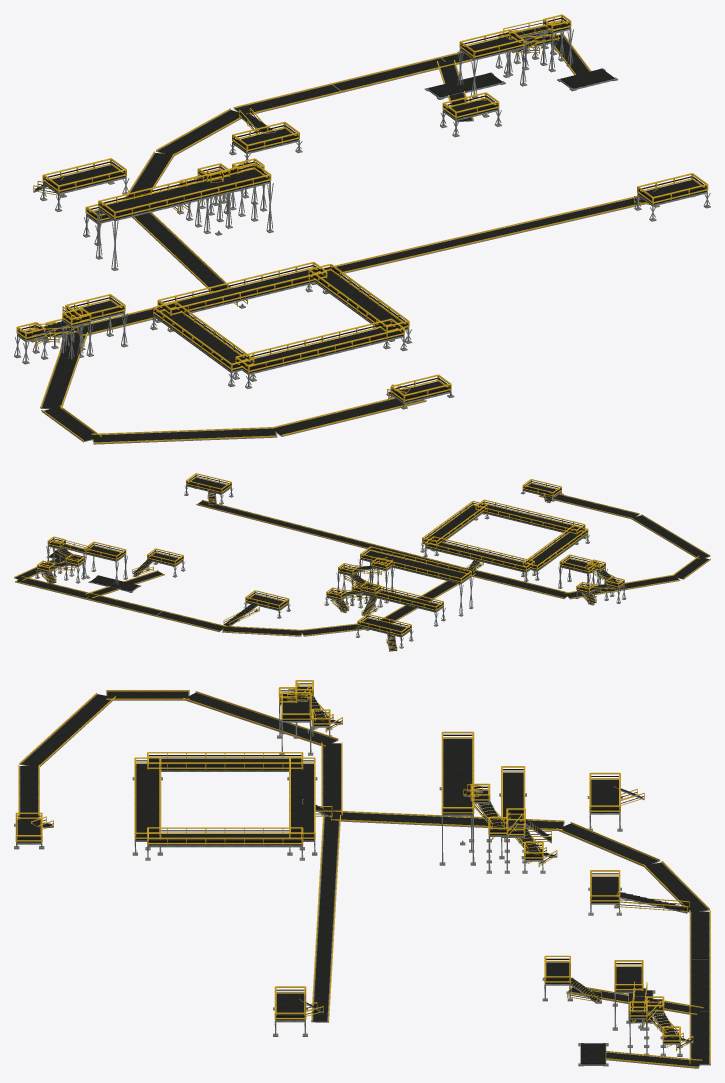
Rendered from Global_Industrial_Stairs_Catwalks_UV.fbx.
The picture shows the model from 3 angles, top to bottom: view 1: azimuth 30°, elevation 25°; view 2: azimuth 150°, elevation 25°; view 3: azimuth 270°, elevation 25°; orthographic projection. The views are drawn at different scales.
Visible parts, largest first — view 1: Ground_Branch_Level11_MHP_AntiSlip_Center_Deck, Autoclave_Inspection_Deck_Platform_Deck, CCD_North_Service_Platform_Platform_Deck, CCD_South_Service_Platform_Platform_Deck, Ground_Main_Corridor_05_AntiSlip_Center_Deck, Ground_Main_Corridor_09_AntiSlip_Center_Deck, Ground_Main_Corridor_07_AntiSlip_Center_Deck, CCD_West_Service_Platform_Platform_Deck, CCD_East_Service_Platform_Platform_Deck, Ground_Main_Corridor_10_AntiSlip_Center_Deck, Ground_Main_Corridor_01_AntiSlip_Center_Deck, Ground_Main_Corridor_03_AntiSlip_Center_Deck (+6 smaller); view 2: Ground_Branch_Level11_MHP_AntiSlip_Center_Deck, Autoclave_Inspection_Deck_Platform_Deck, CCD_South_Service_Platform_Platform_Deck, CCD_North_Service_Platform_Platform_Deck, Ground_Main_Corridor_09_AntiSlip_Center_Deck, Ground_Main_Corridor_06_AntiSlip_Center_Deck, CCD_West_Service_Platform_Platform_Deck, CCD_East_Service_Platform_Platform_Deck, Autoclave_Side_Valve_Platform_Platform_Deck, Ground_Main_Corridor_05_AntiSlip_Center_Deck, Ground_Main_Corridor_10_AntiSlip_Center_Deck, Ground_Main_Corridor_07_AntiSlip_Center_Deck (+12 smaller); view 3: Ground_Branch_Level11_MHP_AntiSlip_Center_Deck, Autoclave_Inspection_Deck_Platform_Deck, CCD_North_Service_Platform_Platform_Deck, CCD_South_Service_Platform_Platform_Deck, CCD_West_Service_Platform_Platform_Deck, Ground_Main_Corridor_09_AntiSlip_Center_Deck, Ground_Main_Corridor_05_AntiSlip_Center_Deck, Ground_Main_Corridor_07_AntiSlip_Center_Deck, CCD_East_Service_Platform_Platform_Deck, Ground_Main_Corridor_06_AntiSlip_Center_Deck, Ground_Main_Corridor_04_AntiSlip_Center_Deck, Ground_Main_Corridor_03_AntiSlip_Center_Deck (+10 smaller).
Part boxes in pixels (box(x1,y1,x2,y2)): Ground_Branch_Level11_MHP_AntiSlip_Center_Deck: box(319, 198, 645, 273); Autoclave_Inspection_Deck_Platform_Deck: box(99, 169, 270, 219); CCD_North_Service_Platform_Platform_Deck: box(239, 328, 403, 373); CCD_South_Service_Platform_Platform_Deck: box(159, 269, 317, 315); Ground_Main_Corridor_05_AntiSlip_Center_Deck: box(134, 213, 229, 291); Ground_Main_Corridor_09_AntiSlip_Center_Deck: box(93, 428, 275, 442); Ground_Main_Corridor_07_AntiSlip_Center_Deck: box(42, 332, 85, 408); CCD_West_Service_Platform_Platform_Deck: box(154, 311, 244, 371); CCD_East_Service_Platform_Platform_Deck: box(312, 270, 408, 330); Ground_Main_Corridor_10_AntiSlip_Center_Deck: box(274, 398, 423, 434); Ground_Main_Corridor_01_AntiSlip_Center_Deck: box(333, 58, 448, 90); Ground_Main_Corridor_03_AntiSlip_Center_Deck: box(158, 110, 242, 154); Ground_Branch_Level11_MHP_AntiSlip_Center_Deck: box(198, 501, 469, 573); Autoclave_Inspection_Deck_Platform_Deck: box(361, 551, 470, 582); CCD_South_Service_Platform_Platform_Deck: box(426, 542, 530, 571); CCD_North_Service_Platform_Platform_Deck: box(477, 504, 584, 532); Ground_Main_Corridor_09_AntiSlip_Center_Deck: box(633, 515, 708, 558); Ground_Main_Corridor_06_AntiSlip_Center_Deck: box(472, 571, 569, 597); CCD_West_Service_Platform_Platform_Deck: box(529, 530, 587, 570); CCD_East_Service_Platform_Platform_Deck: box(422, 505, 483, 543); Autoclave_Side_Valve_Platform_Platform_Deck: box(352, 585, 443, 611); Ground_Main_Corridor_05_AntiSlip_Center_Deck: box(380, 571, 466, 623); Ground_Main_Corridor_10_AntiSlip_Center_Deck: box(540, 494, 638, 517); Ground_Main_Corridor_07_AntiSlip_Center_Deck: box(567, 575, 678, 597); Ground_Branch_Level11_MHP_AntiSlip_Center_Deck: box(313, 816, 338, 1021); Autoclave_Inspection_Deck_Platform_Deck: box(443, 738, 472, 814); CCD_North_Service_Platform_Platform_Deck: box(135, 764, 159, 840); CCD_South_Service_Platform_Platform_Deck: box(291, 764, 314, 840); CCD_West_Service_Platform_Platform_Deck: box(149, 758, 302, 770); Ground_Main_Corridor_09_AntiSlip_Center_Deck: box(21, 694, 113, 766); Ground_Main_Corridor_05_AntiSlip_Center_Deck: box(333, 812, 563, 828); Ground_Main_Corridor_07_AntiSlip_Center_Deck: box(185, 693, 336, 744); CCD_East_Service_Platform_Platform_Deck: box(148, 834, 302, 845); Ground_Main_Corridor_06_AntiSlip_Center_Deck: box(323, 743, 340, 815); Ground_Main_Corridor_04_AntiSlip_Center_Deck: box(559, 823, 657, 865); Ground_Main_Corridor_03_AntiSlip_Center_Deck: box(645, 862, 707, 911).
Bounding box in the file's own units: 15029 × 1076 × 11736.
5 materials, 5 textured.
